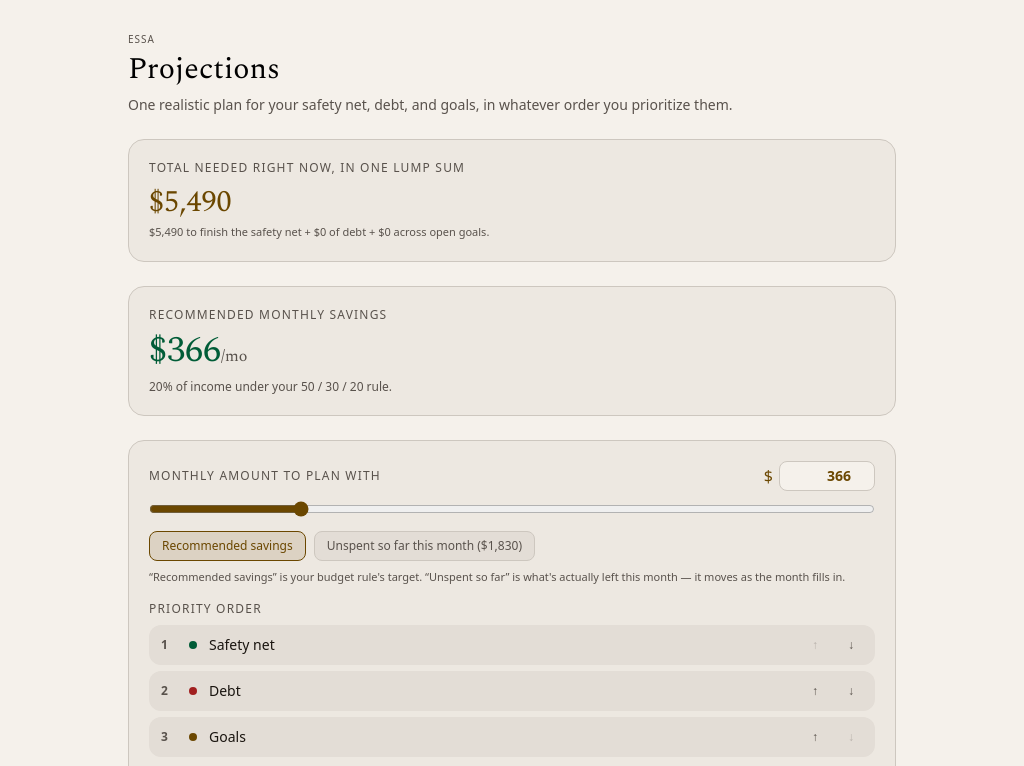
Test: ProjectionsScreen — both inputs respect the cap, and the track no longer grows › the slider cannot drive the value above the cap
Set the slider named "Monthly amount to plan with (slider)" to "99999": coordinates (512, 508) x1=149 y1=500 x2=875 y2=516
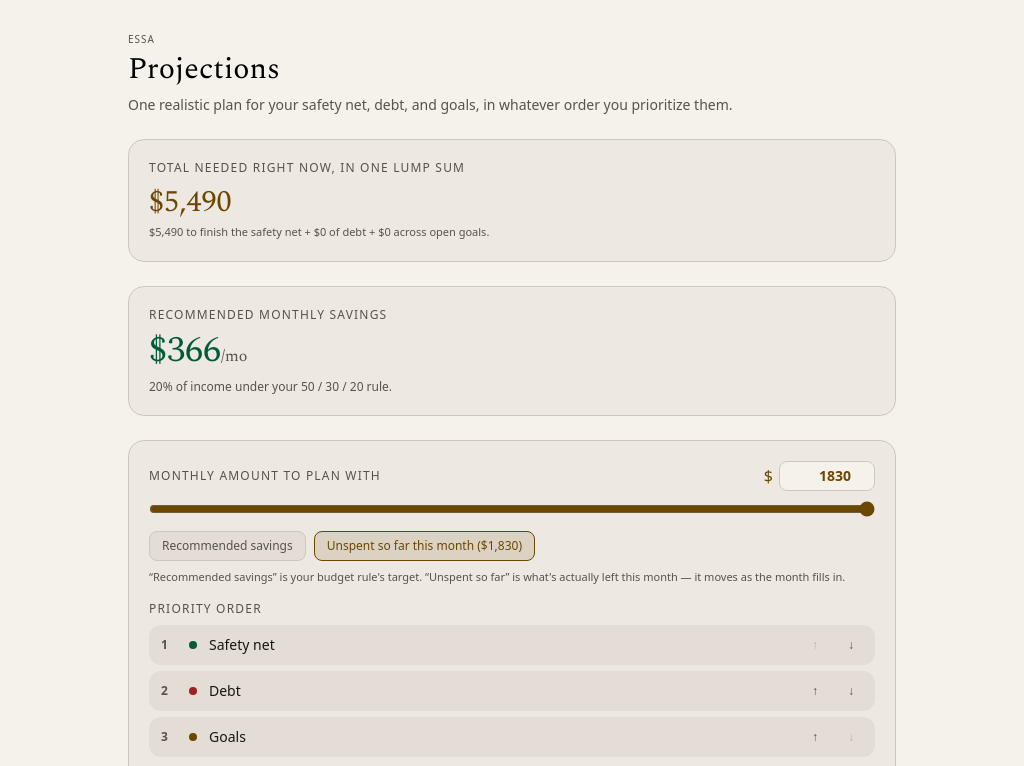
Result: the number field named "Monthly amount to plan with" holds "1830" at x1=779 y1=460 x2=875 y2=490
